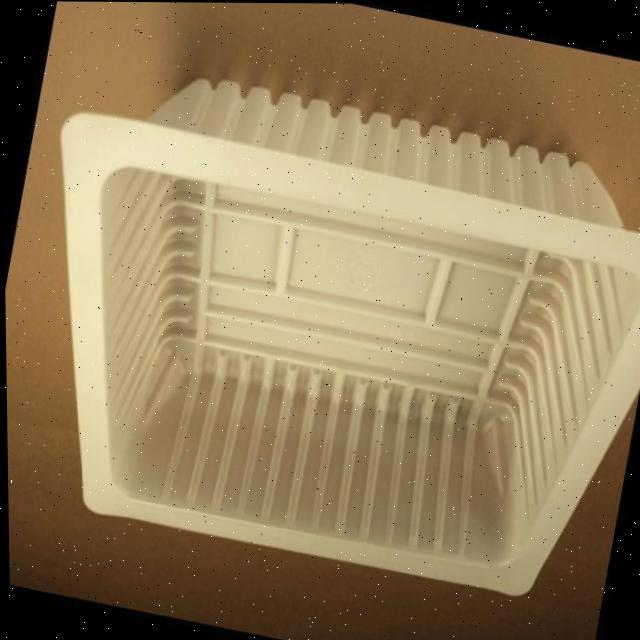disposable: (0, 10, 640, 640)
